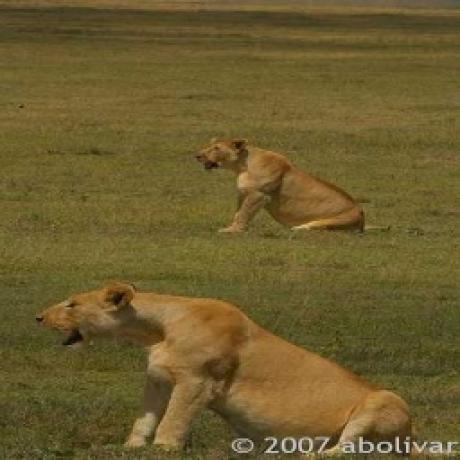Lion: (20, 277, 418, 460), (188, 134, 393, 251)
